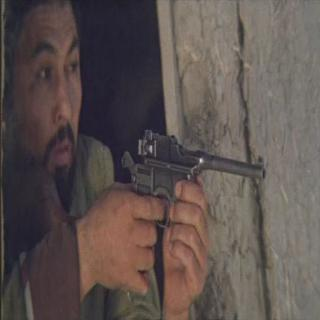gun: (117, 117, 268, 294)
